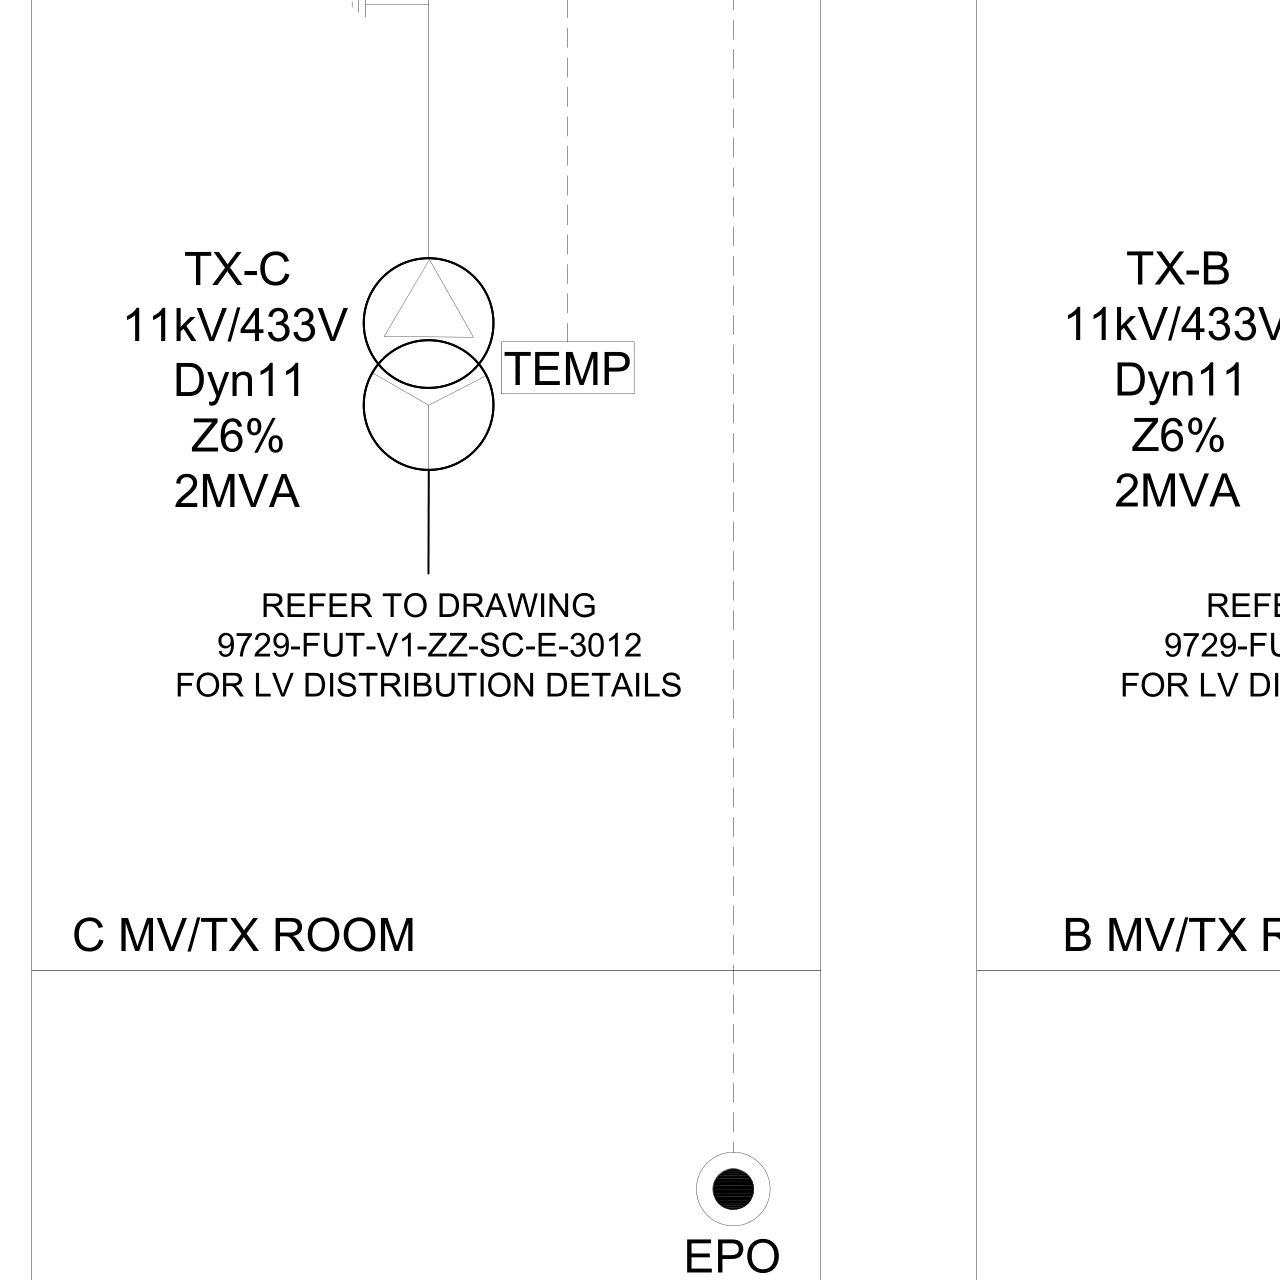Transformer: (356, 252, 501, 481)
